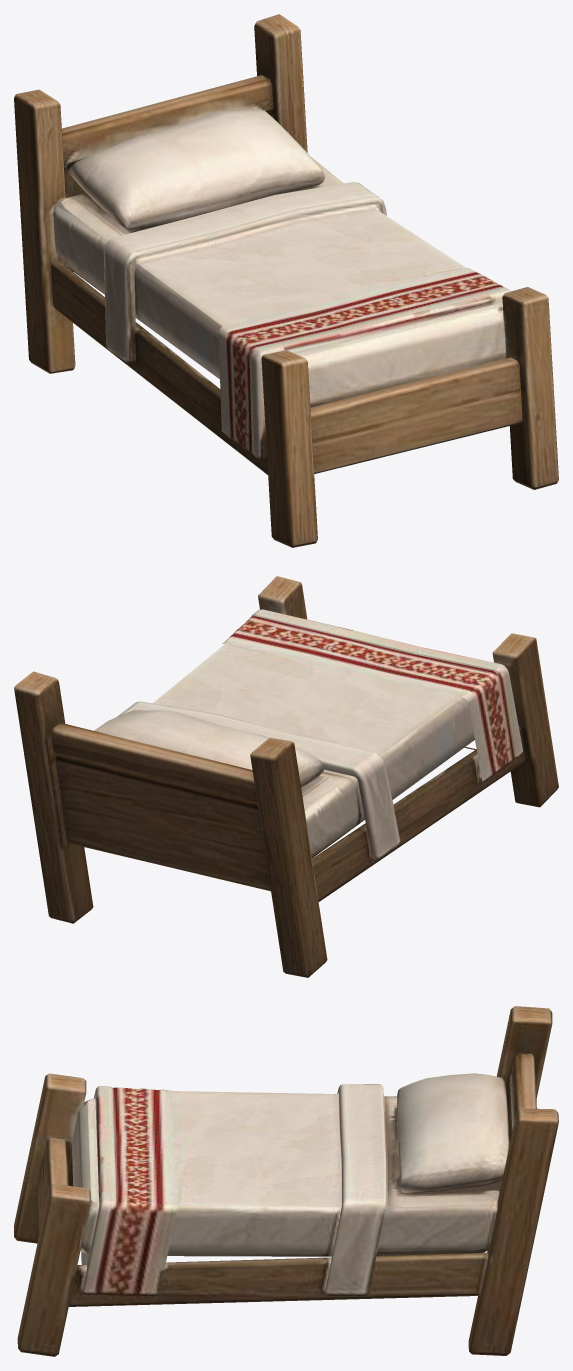
Rendered from act1-a11-2-hospice-bed.glb.
3 renders of one model, top to bottom at view 1: azimuth 30°, elevation 25°; view 2: azimuth 150°, elevation 25°; view 3: azimuth 270°, elevation 25°, orthographic. The views are drawn at different scales.
Visible parts, largest first — view 1: act1-a11-2-hospice-bed; view 2: act1-a11-2-hospice-bed; view 3: act1-a11-2-hospice-bed.
Part boxes in pixels (bbox=[...]): act1-a11-2-hospice-bed: bbox=[14, 14, 558, 547]; act1-a11-2-hospice-bed: bbox=[14, 576, 558, 977]; act1-a11-2-hospice-bed: bbox=[14, 1006, 558, 1356].
Bounding box in the file's own units: 1.2 × 1.07 × 2.16.
1 material, 1 textured.
